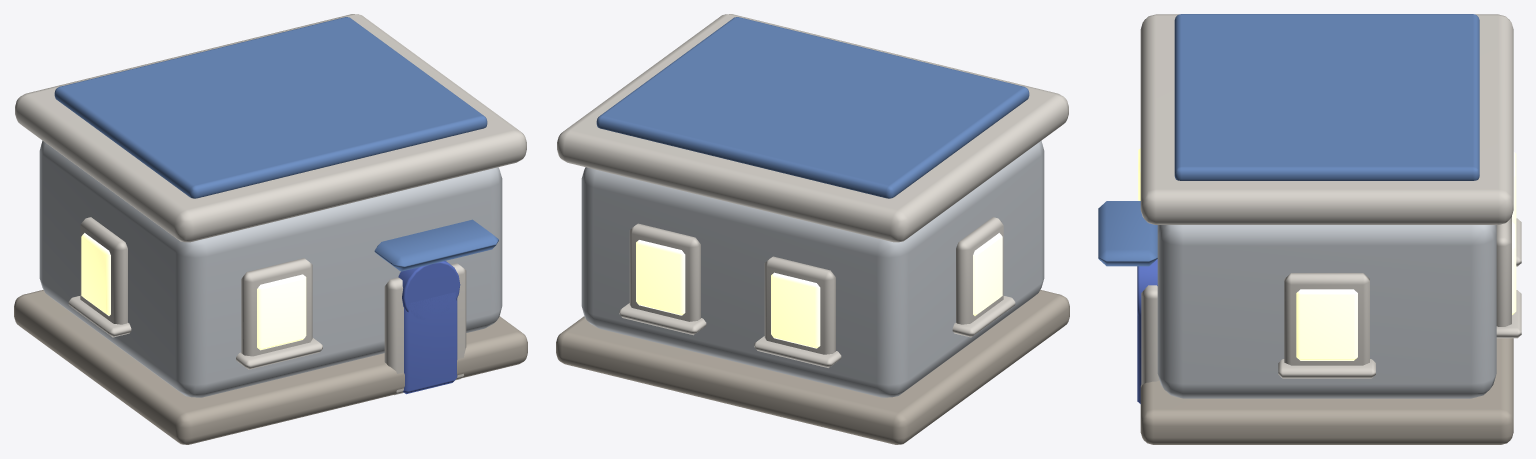
3 views of the same model, side by side, from view 1: azimuth 30°, elevation 25°; view 2: azimuth 150°, elevation 25°; view 3: azimuth 270°, elevation 25° (orthographic). The views are drawn at different scales.
Parts seen in each view (by area): view 1: Cube; view 2: Cube; view 3: Cube.
Part boxes in pixels (box(x1,y1,x2,y2)): Cube: box(14, 14, 527, 444); Cube: box(556, 14, 1069, 444); Cube: box(1098, 14, 1521, 444).
Bounding box in the file's own units: 0.539 × 0.3455 × 0.4995.
